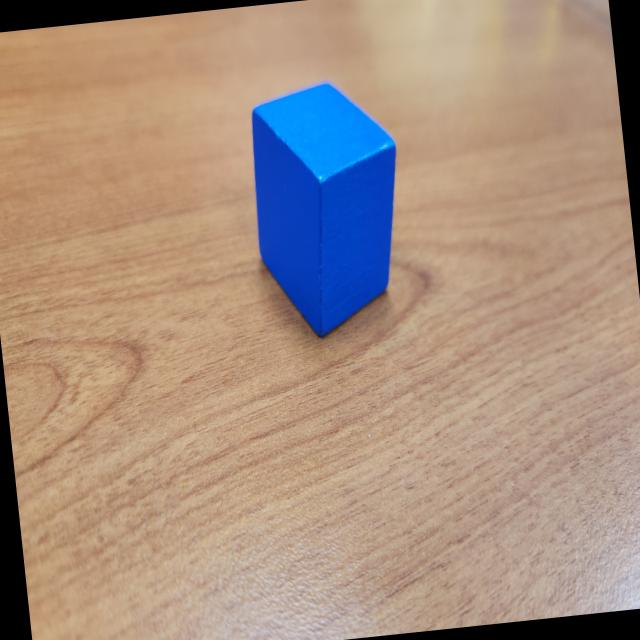blue: (240, 75, 415, 342)
